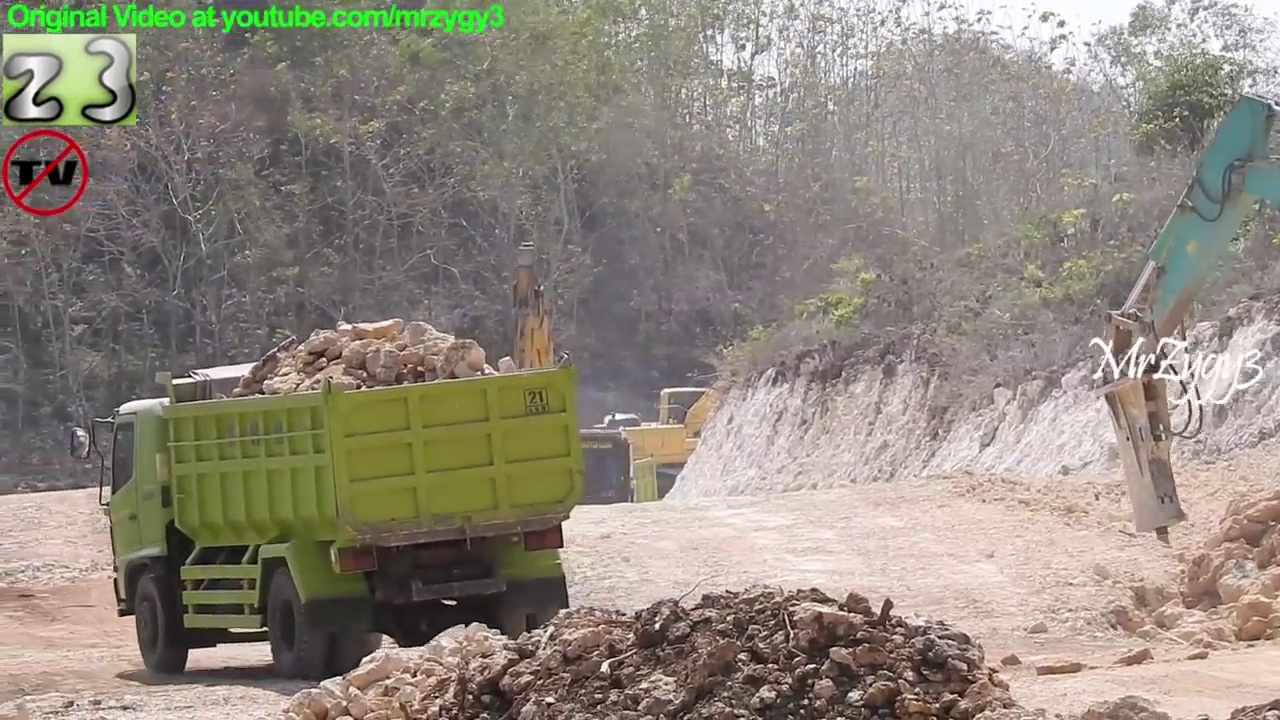excavator: (1082, 93, 1280, 555), (443, 234, 617, 550), (596, 359, 757, 507)
truck: (67, 347, 591, 686), (538, 428, 672, 528)
